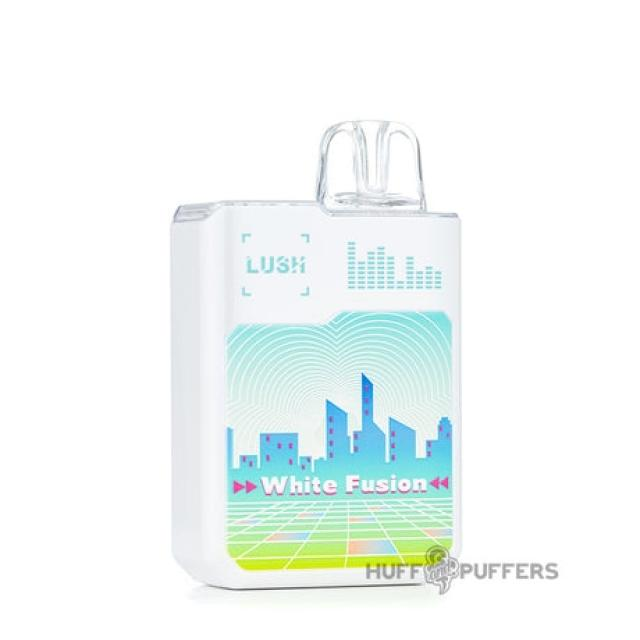Hazard: (168, 119, 464, 592)
